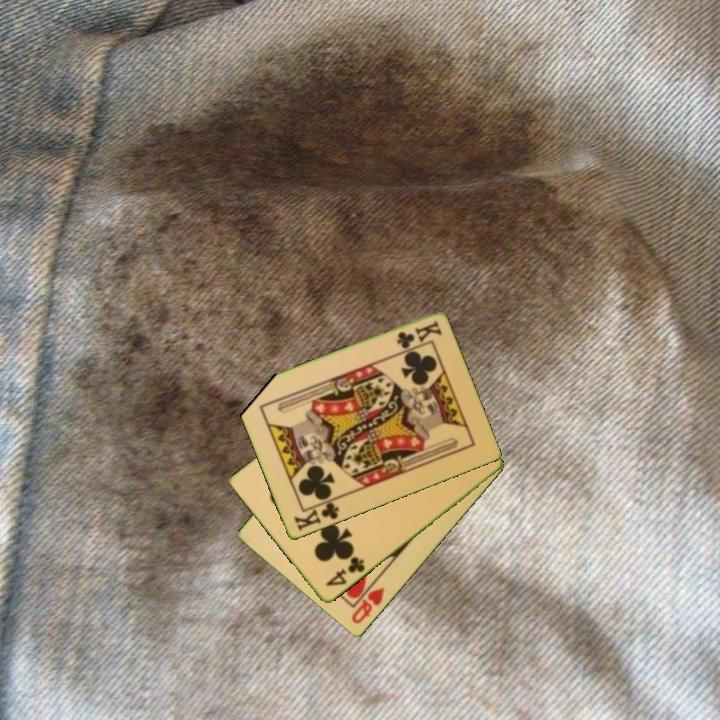4c: (322, 553, 368, 589)
Kc: (290, 495, 342, 535), (393, 318, 444, 352)
Qh: (348, 584, 388, 627)
